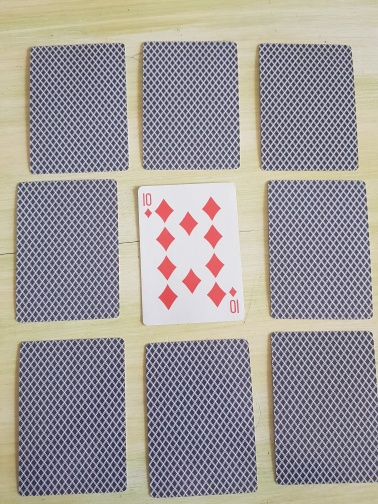ten: (137, 183, 245, 327)
